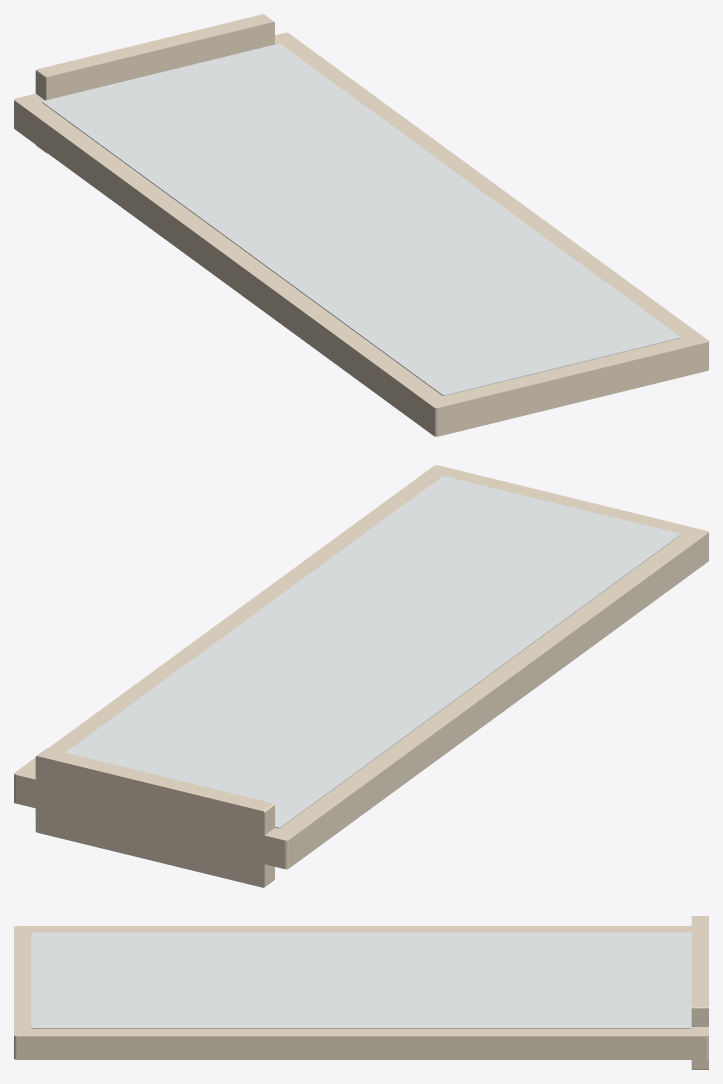
Rendered from mirror.glb.
The picture shows the model from 3 angles, top to bottom: view 1: azimuth 30°, elevation 25°; view 2: azimuth 150°, elevation 25°; view 3: azimuth 270°, elevation 25°; orthographic projection. The views are drawn at different scales.
Visible parts, largest first — view 1: glass, frame, foot; view 2: glass, frame, foot; view 3: glass, frame, foot.
Boxes of the visible parts, <box> form: glass: <box>42,43,680,395</box>; frame: <box>14,32,708,436</box>; foot: <box>35,14,274,153</box>; glass: <box>65,476,680,828</box>; frame: <box>14,465,708,869</box>; foot: <box>35,748,274,887</box>; glass: <box>31,932,691,1028</box>; frame: <box>14,926,708,1059</box>; foot: <box>691,916,708,1069</box>.
Size of the model in its own units: 0.6 by 0.16 by 1.6.
